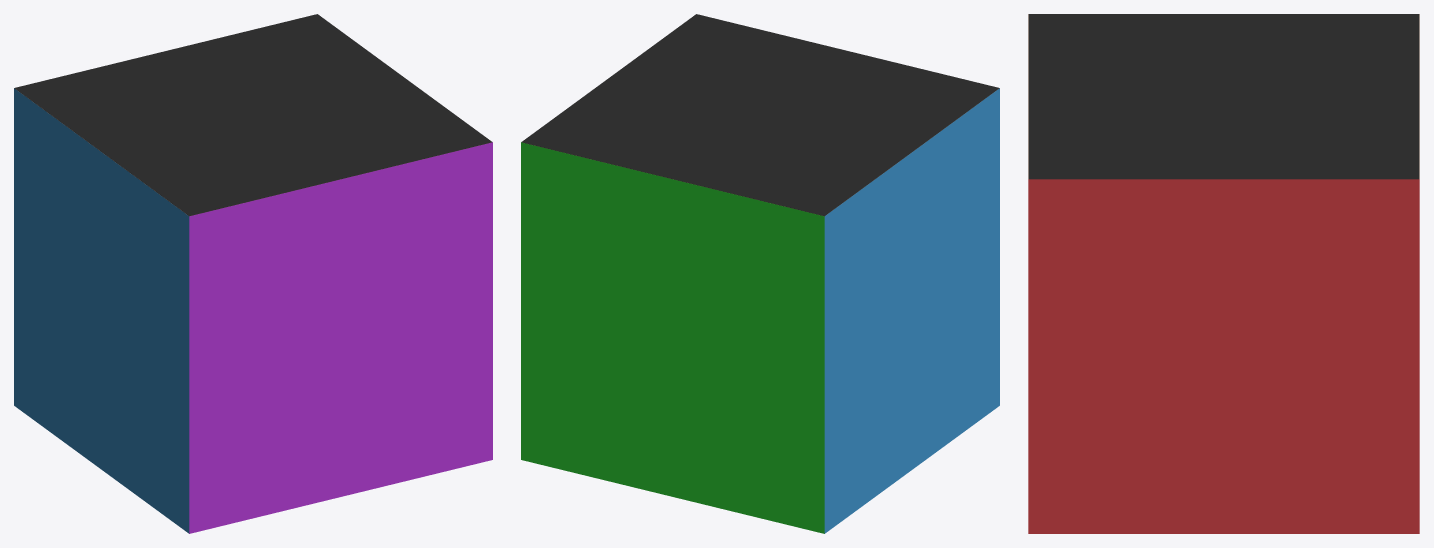
The model's file is Editable Cake.fbx.
3 renders of one model, left to right at view 1: azimuth 30°, elevation 25°; view 2: azimuth 150°, elevation 25°; view 3: azimuth 270°, elevation 25°, orthographic. The views are drawn at different scales.
Parts seen in each view (by area): view 1: BOX, TOP; view 2: BOX, TOP; view 3: BOX, TOP.
Part boxes in pixels (x1=…): BOX: x1=14, y1=88, x2=492, y2=533; TOP: x1=14, y1=14, x2=492, y2=216; BOX: x1=521, y1=88, x2=999, y2=533; TOP: x1=521, y1=14, x2=999, y2=216; BOX: x1=1028, y1=14, x2=1419, y2=533; TOP: x1=1028, y1=14, x2=1419, y2=179.
Size of the model in its own units: 20 by 20.01 by 20.
